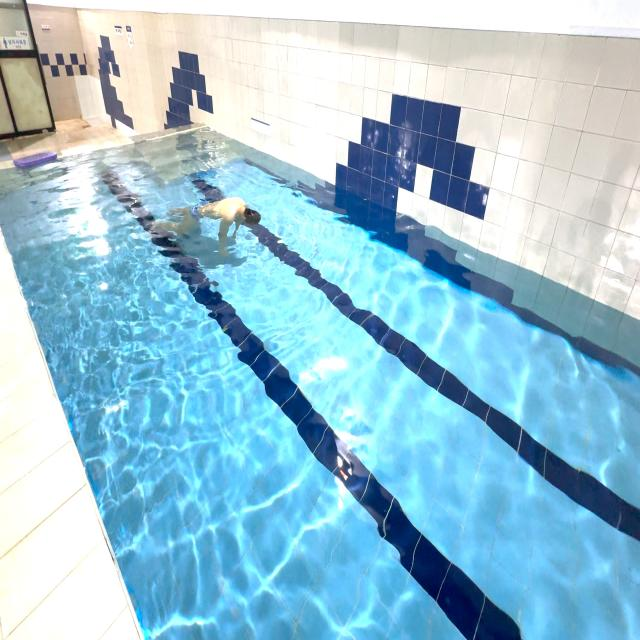Drowning: (147, 180, 265, 271)
